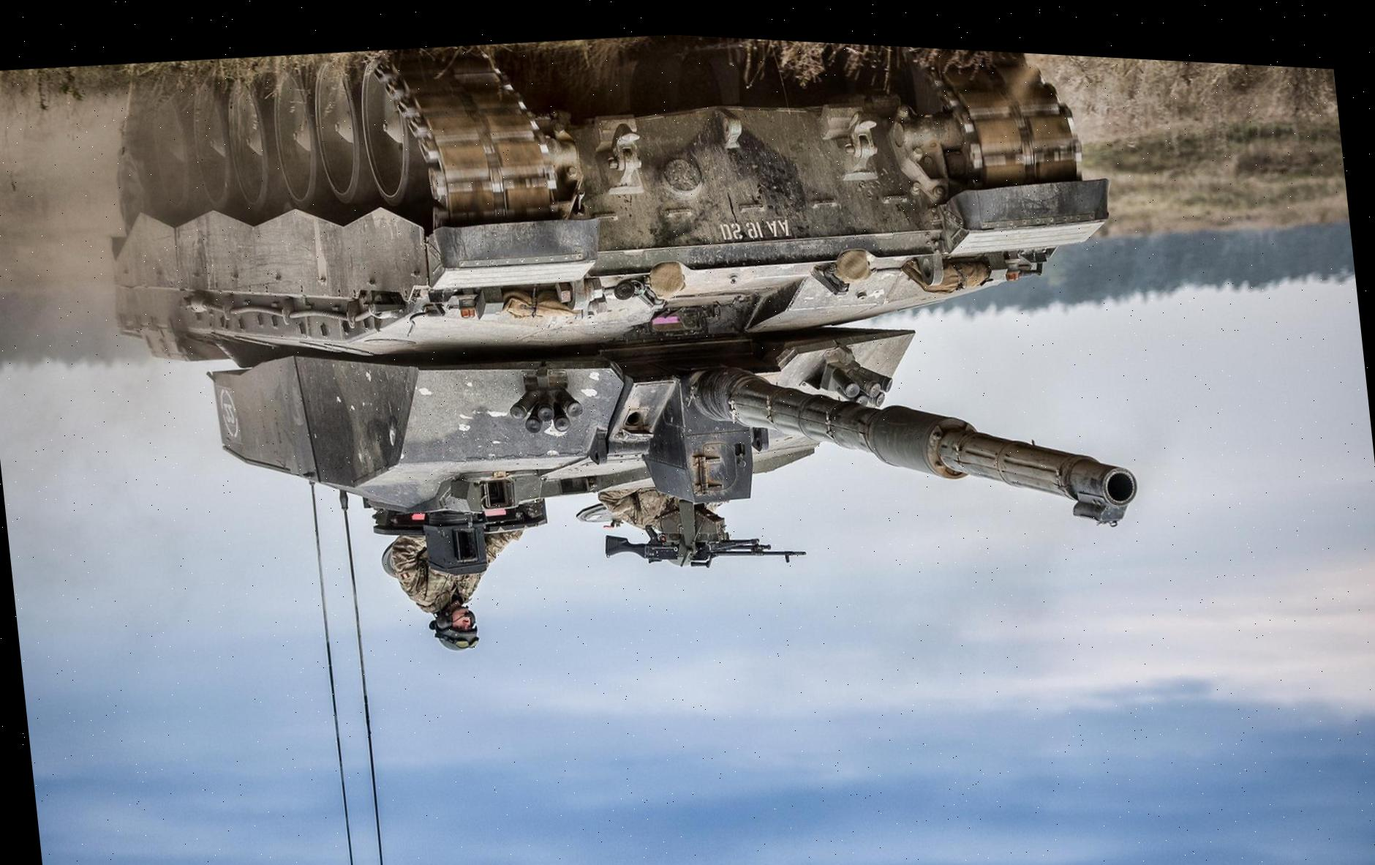person: (374, 513, 539, 665)
tank: (86, 4, 1145, 635)
